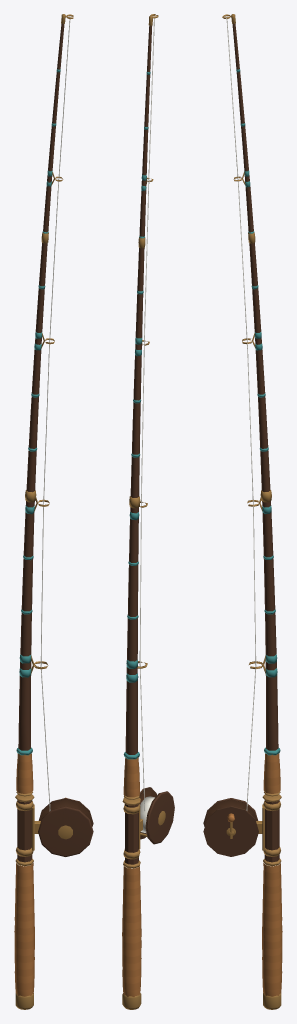
The model's file is tool_fishing_rod_river_a.glb.
3 views of the same model, side by side, from view 1: azimuth 90°, elevation 25°; view 2: azimuth 150°, elevation 25°; view 3: azimuth 270°, elevation 25° (orthographic).
Parts seen in each view (by area): view 1: tool_fishing_rod_river_a_mesh, rod_reel_spool; view 2: tool_fishing_rod_river_a_mesh, rod_reel_spool, rod_reel_line_coil; view 3: tool_fishing_rod_river_a_mesh, rod_reel_spool.
Boxes of the visible parts, x1,y1,x2,y2 form: tool_fishing_rod_river_a_mesh: (14,17,93,1009); rod_reel_spool: (38,798,93,826); tool_fishing_rod_river_a_mesh: (122,18,174,1009); rod_reel_spool: (139,787,159,842); rod_reel_line_coil: (140,796,154,833); tool_fishing_rod_river_a_mesh: (203,17,282,1009); rod_reel_spool: (203,799,258,856).
Bounding box in the file's own units: 0.0933 × 2.82 × 0.2032.
